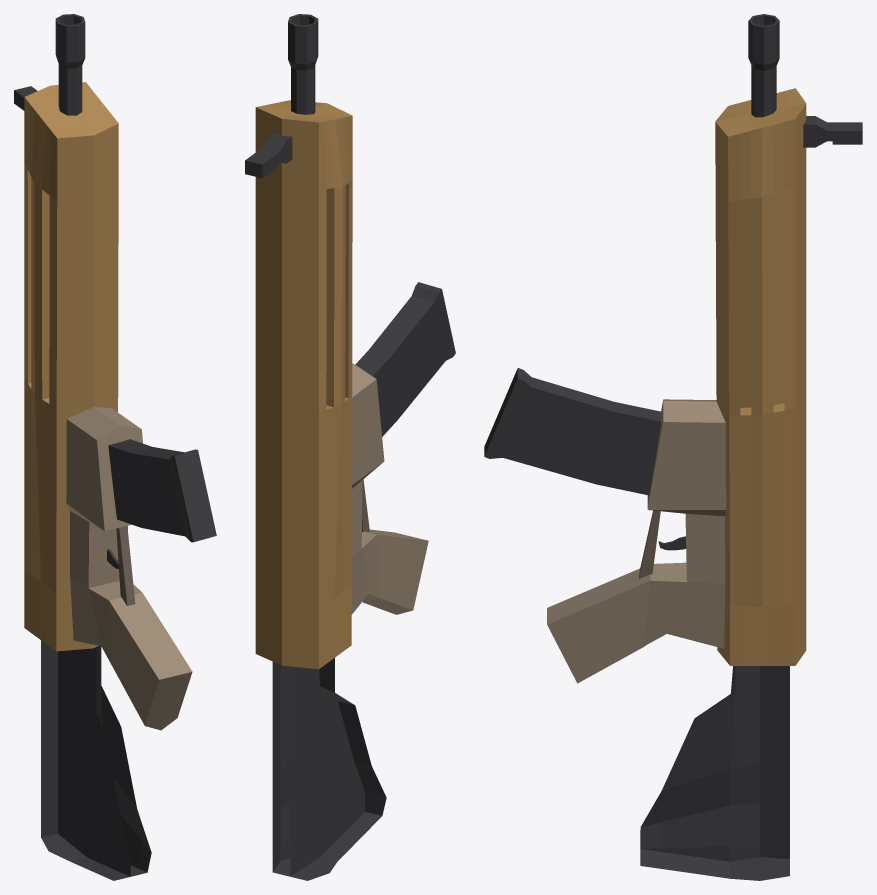
The model's file is Gun_Model_Final.fbx.
3 views of the same model, side by side, from view 1: azimuth 30°, elevation 25°; view 2: azimuth 150°, elevation 25°; view 3: azimuth 270°, elevation 25° (orthographic). The views are drawn at different scales.
Parts seen in each view (by area): view 1: Cylinder; view 2: Cylinder; view 3: Cylinder.
Boxes of the visible parts, x1,y1,x2,y2 form: Cylinder: (14, 14, 216, 880); Cylinder: (245, 14, 455, 880); Cylinder: (484, 14, 862, 880).
Bounding box in the file's own units: 695 × 7400 × 2988.
